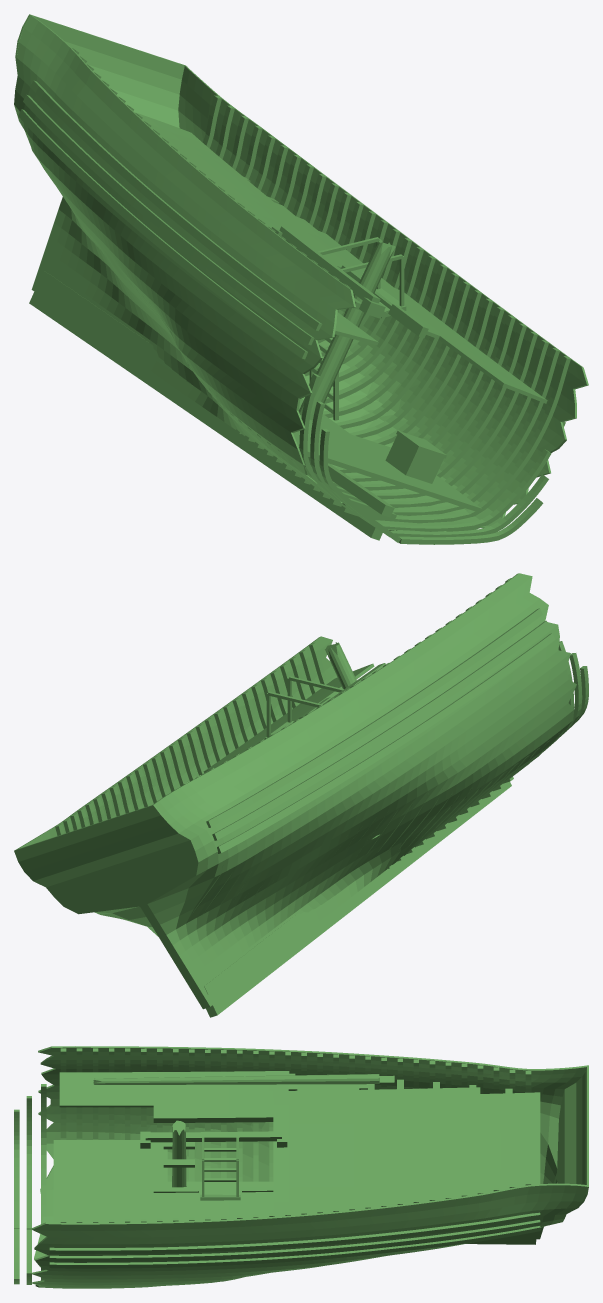
3 renders of one model, top to bottom at view 1: azimuth 30°, elevation 25°; view 2: azimuth 150°, elevation 25°; view 3: azimuth 270°, elevation 25°, orthographic. The views are drawn at different scales.
Visible parts, largest first — view 1: col_hull_starboard, col_hull_port, col_deck_walk_slab, col_transom, col_fractured_keel, col_hold_walk_slab, col_wale_s_0, col_wale_s_1, col_wale_s_2, col_keelson, col_broken_main_mast, col_frame_29 (+22 smaller); view 2: col_hull_starboard, col_transom, col_hull_port, col_fractured_keel, col_wale_s_0, col_wale_s_1, col_wale_s_2, col_deck_walk_slab, col_keelson, col_broken_main_mast; view 3: col_deck_walk_slab, col_hull_port, col_hull_starboard, col_hold_walk_slab, col_wale_p_0, col_wale_p_1, col_transom, col_wale_p_2, col_fallen_yard, col_ladder_hanger_beam, col_hatch_coaming_s_0, col_broken_main_mast (+17 smaller).
Part boxes in pixels (<box>): col_hull_starboard: <box>14,15,355,505</box>; col_hull_port: <box>178,66,588,531</box>; col_deck_walk_slab: <box>135,112,547,403</box>; col_transom: <box>15,14,186,290</box>; col_fractured_keel: <box>29,291,382,540</box>; col_hold_walk_slab: <box>293,398,481,512</box>; col_wale_s_0: <box>30,80,322,330</box>; col_wale_s_1: <box>23,94,314,345</box>; col_wale_s_2: <box>18,109,307,359</box>; col_keelson: <box>39,270,394,517</box>; col_broken_main_mast: <box>298,239,395,420</box>; col_frame_29: <box>290,283,570,523</box>; col_hull_starboard: <box>146,573,576,1007</box>; col_transom: <box>14,804,209,1008</box>; col_hull_port: <box>14,636,339,1009</box>; col_fractured_keel: <box>206,781,511,1017</box>; col_wale_s_0: <box>206,608,542,827</box>; col_wale_s_1: <box>212,620,549,840</box>; col_wale_s_2: <box>217,633,555,853</box>; col_deck_walk_slab: <box>201,663,374,775</box>; col_keelson: <box>204,894,336,994</box>; col_broken_main_mast: <box>325,642,356,689</box>; col_deck_walk_slab: <box>59,1071,540,1222</box>; col_hull_port: <box>32,1182,586,1288</box>; col_hull_starboard: <box>38,1046,586,1216</box>; col_hold_walk_slab: <box>53,1140,273,1222</box>; col_wale_p_0: <box>49,1212,540,1254</box>; col_wale_p_1: <box>49,1220,540,1261</box>; col_transom: <box>538,1065,588,1238</box>; col_wale_p_2: <box>49,1226,540,1268</box>; col_fallen_yard: <box>93,1074,379,1084</box>; col_ladder_hanger_beam: <box>145,1131,281,1142</box>; col_hatch_coaming_s_0: <box>153,1113,273,1122</box>; col_broken_main_mast: <box>172,1120,186,1187</box>.
Bounding box in the file's own units: 6.21 × 5.46 × 14.65.
